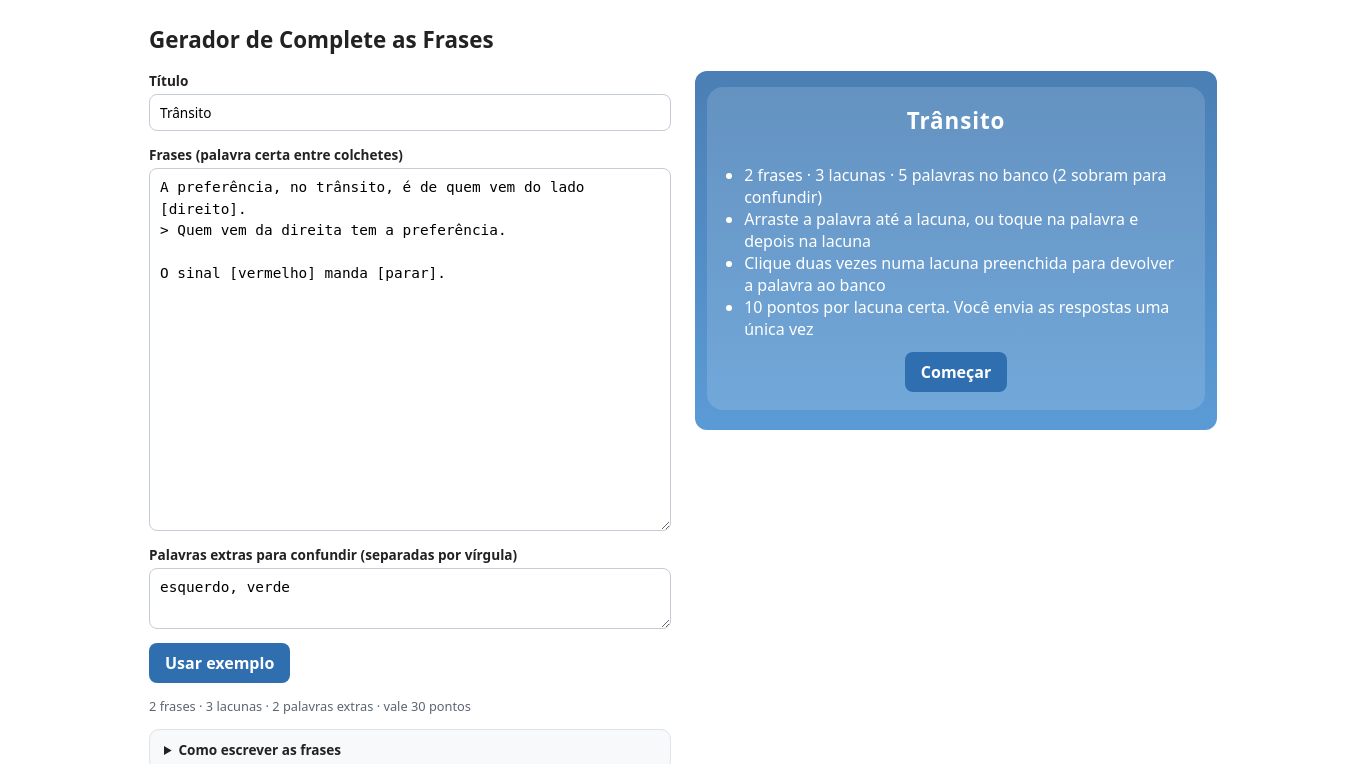
Test case: Complete as Frases como módulo › pegadinha igual a uma resposta desabilita o Salvar
Replace the text in the text box labelled "Palavras extras para confundir (separadas por vírgula)" with "direito": (410, 599) [149, 568, 671, 630]
(page scrolled)
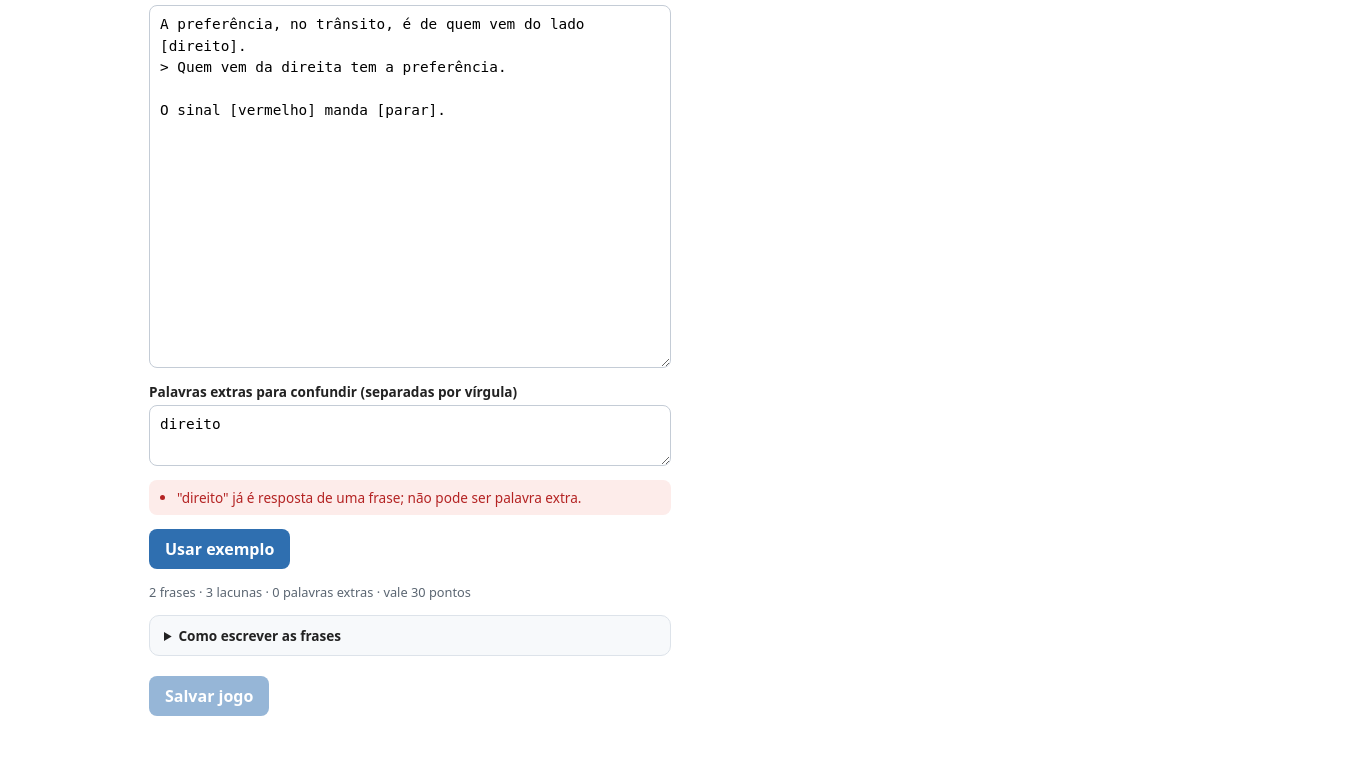
Check: the button "Salvar jogo" is disabled, box [149, 676, 269, 716]
